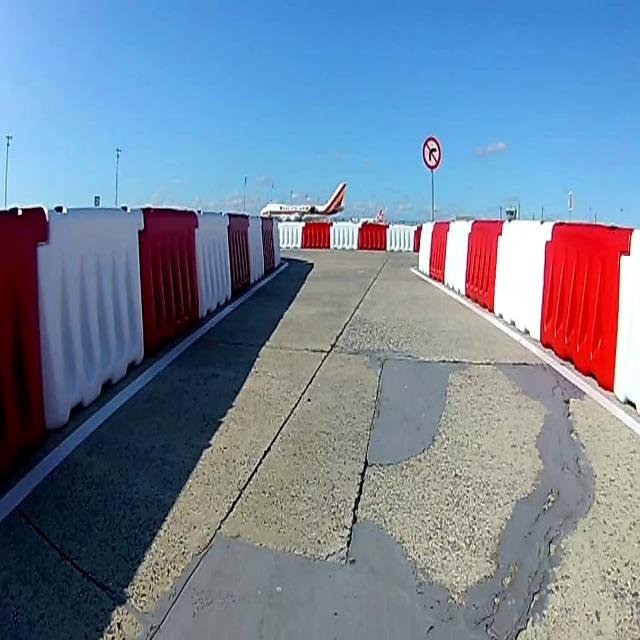sagadonulmez: (423, 138, 441, 170)
